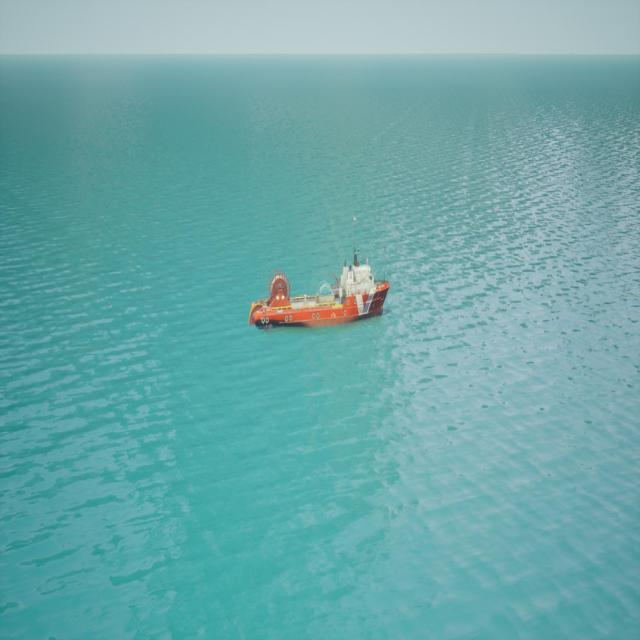tug boat: (249, 259, 398, 334)
